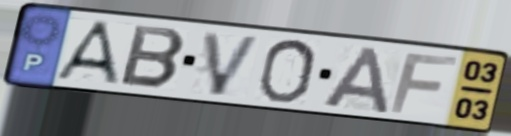A: (320, 44, 392, 116), (51, 18, 123, 87)
B: (116, 22, 189, 91)
F: (386, 52, 462, 116)
O: (254, 38, 320, 105)
V: (201, 29, 265, 99)
